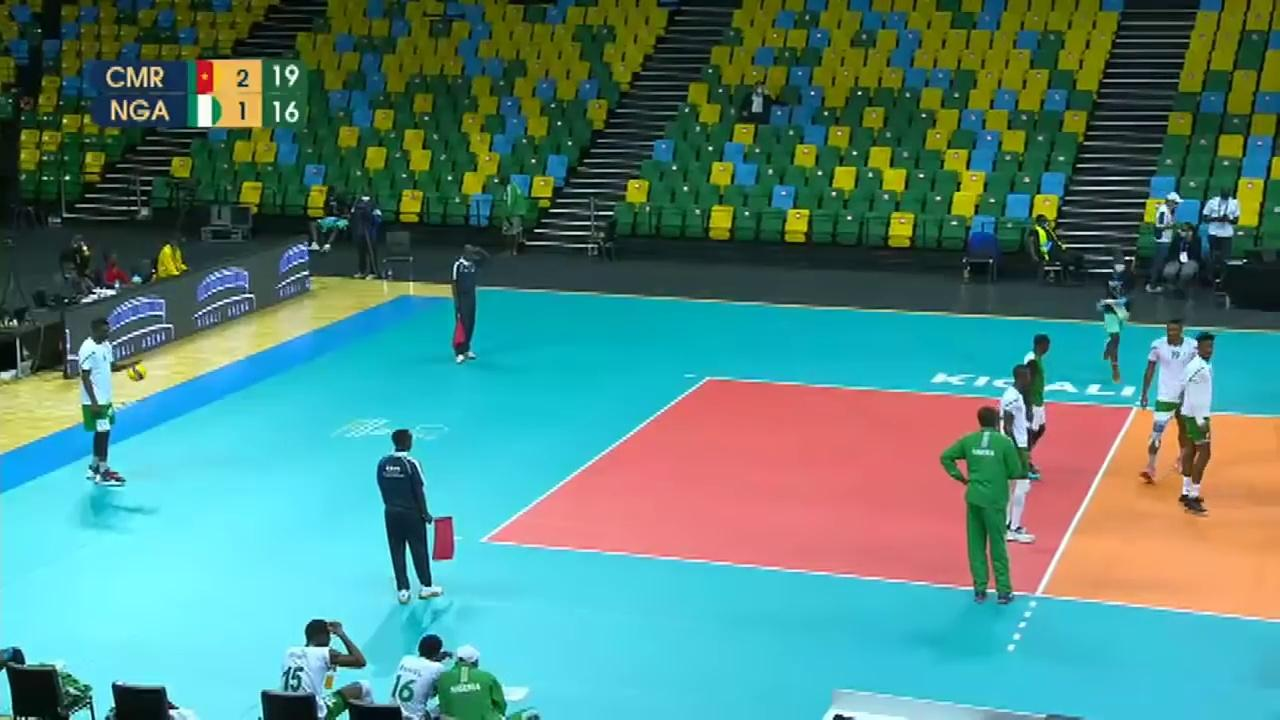player: (1141, 319, 1200, 479), (991, 364, 1042, 549), (74, 317, 129, 482), (1179, 331, 1216, 519), (1016, 332, 1054, 484)
refree: (372, 431, 441, 599), (449, 243, 485, 361)
